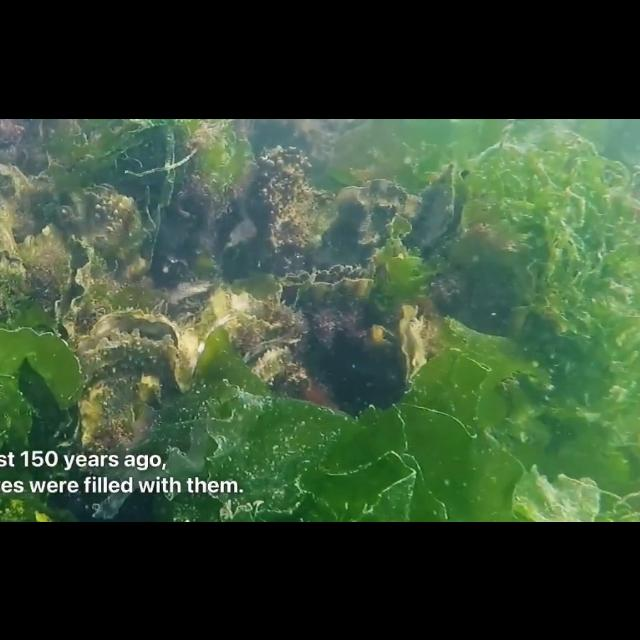Oyster-Closed: (320, 176, 422, 266), (244, 146, 316, 260), (68, 184, 150, 280)
Oyster-Open: (74, 310, 188, 444), (178, 292, 302, 364), (1, 184, 74, 298), (51, 237, 117, 351), (399, 162, 469, 262), (274, 263, 376, 311), (242, 338, 310, 398), (396, 304, 426, 382), (0, 248, 32, 294), (357, 322, 395, 352)
